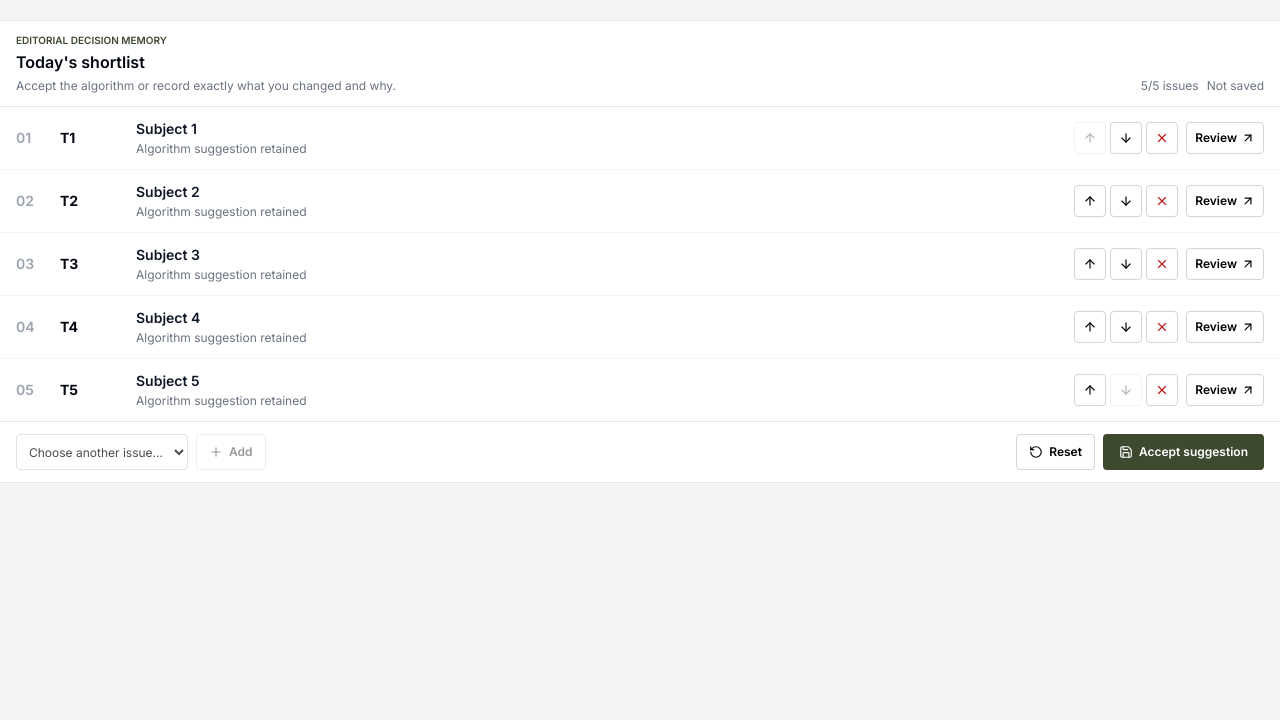
NewsletterEditorialShortlist › cleans a displaced move when the row ahead of it is removed
The width and height of the screenshot is (1280, 720).
Click the button named "Move T2 up" at coordinates (1090, 201), box [1074,185,1106,217]
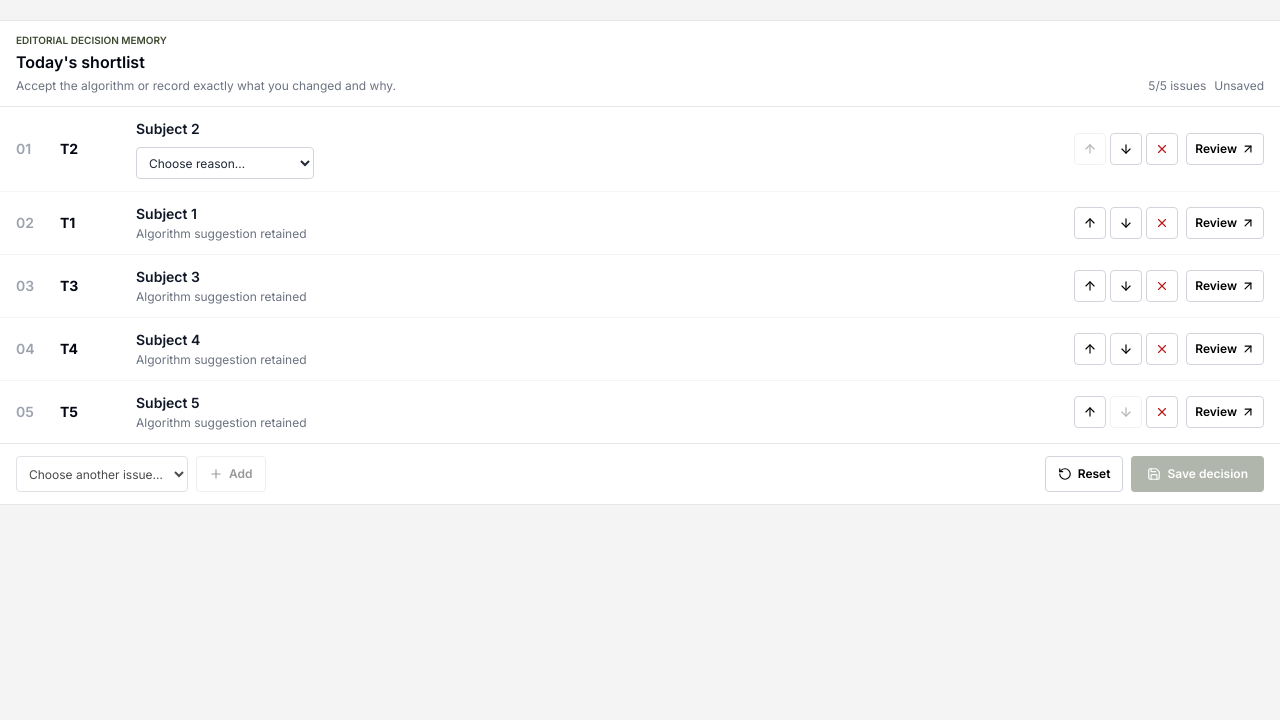
Expected: the dropdown named "Reason for moved T2" is shown, [136,147,314,179]
Click the button named "Remove T1" at coordinates (1162, 223), box [1146,207,1178,239]
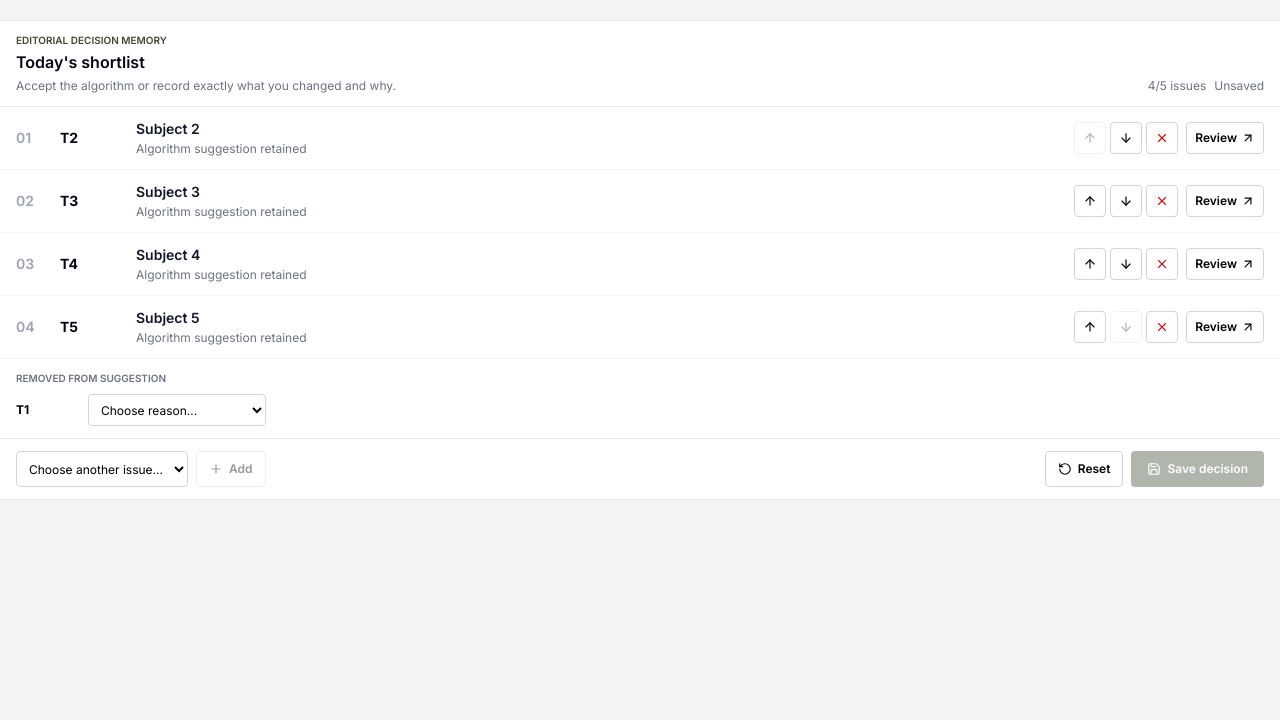
Expected: the dropdown named "Reason for removing T1" is shown, [88,394,266,426]
